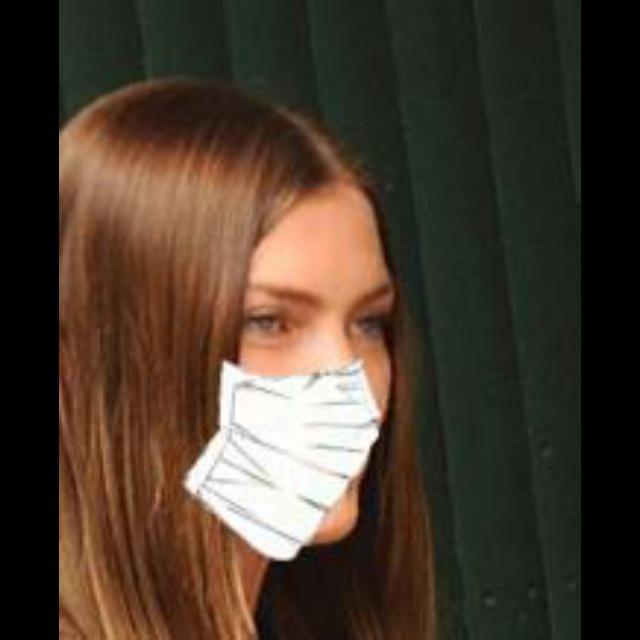suspicion: (81, 94, 456, 586)
